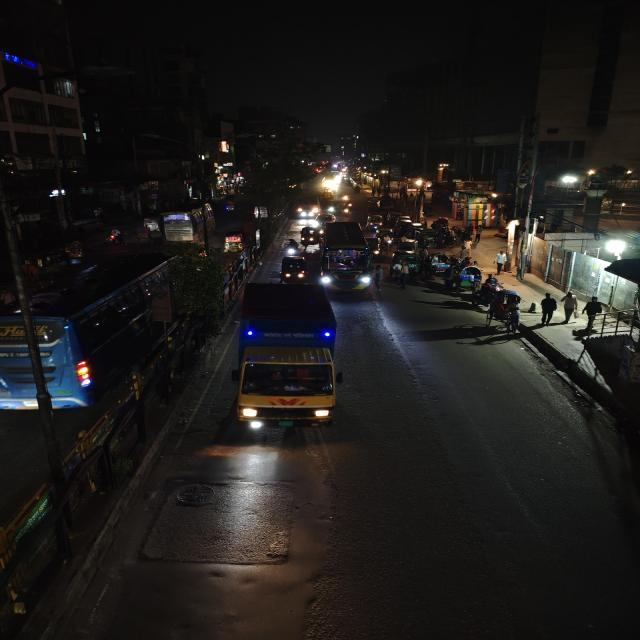bus: (1, 248, 181, 412), (319, 220, 377, 296), (158, 201, 214, 247)
car: (316, 213, 337, 226)
cng: (280, 252, 308, 282), (222, 227, 248, 253), (298, 225, 316, 242), (303, 238, 319, 254), (366, 212, 384, 226)
motorcycle: (104, 226, 128, 247)
pedestrian: (582, 294, 605, 327), (502, 296, 523, 330), (513, 254, 533, 284), (539, 293, 557, 325), (561, 292, 579, 324), (493, 249, 510, 273), (484, 273, 503, 294), (521, 295, 536, 315)
rickshaw: (456, 263, 484, 291), (426, 252, 453, 278)
truck: (231, 278, 345, 436)
